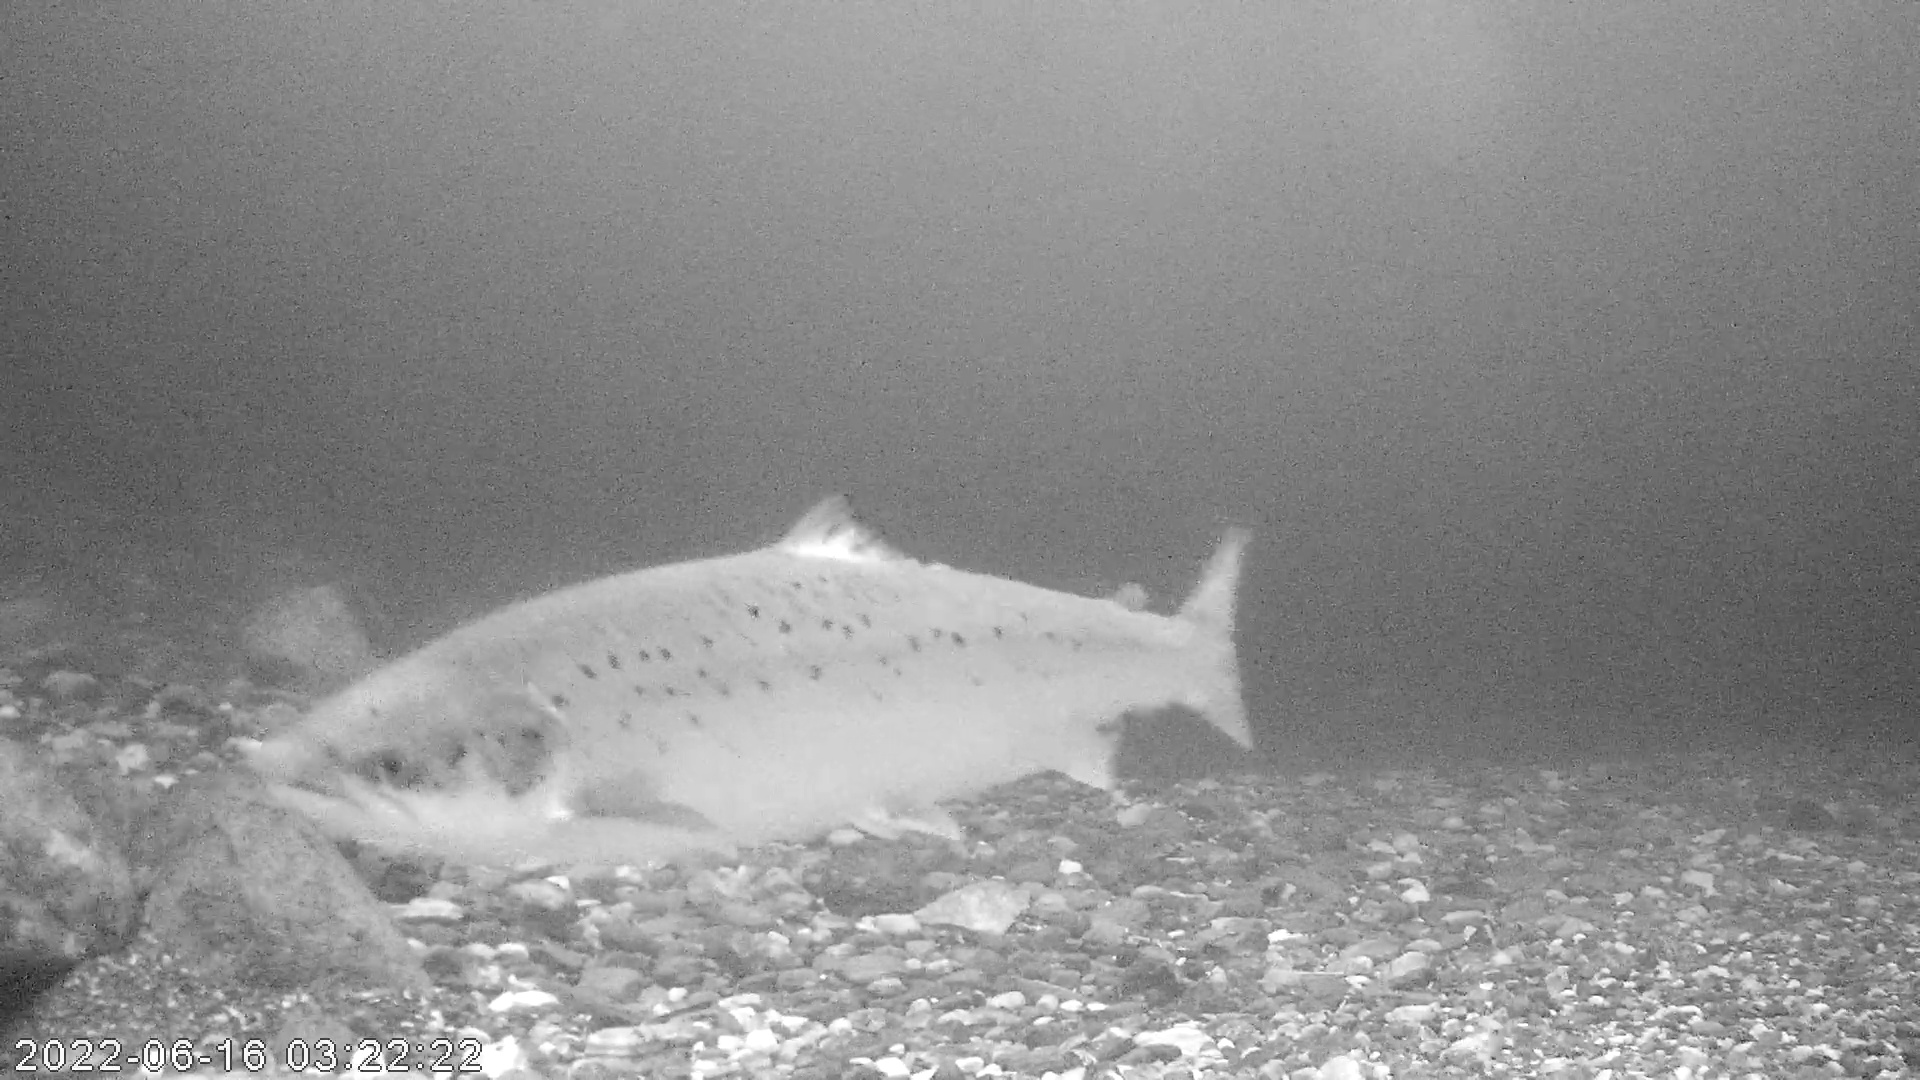salmon: (243, 487, 1257, 866)
